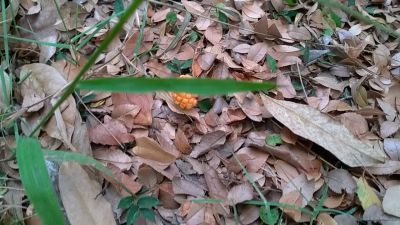eggs: (169, 70, 201, 110)
